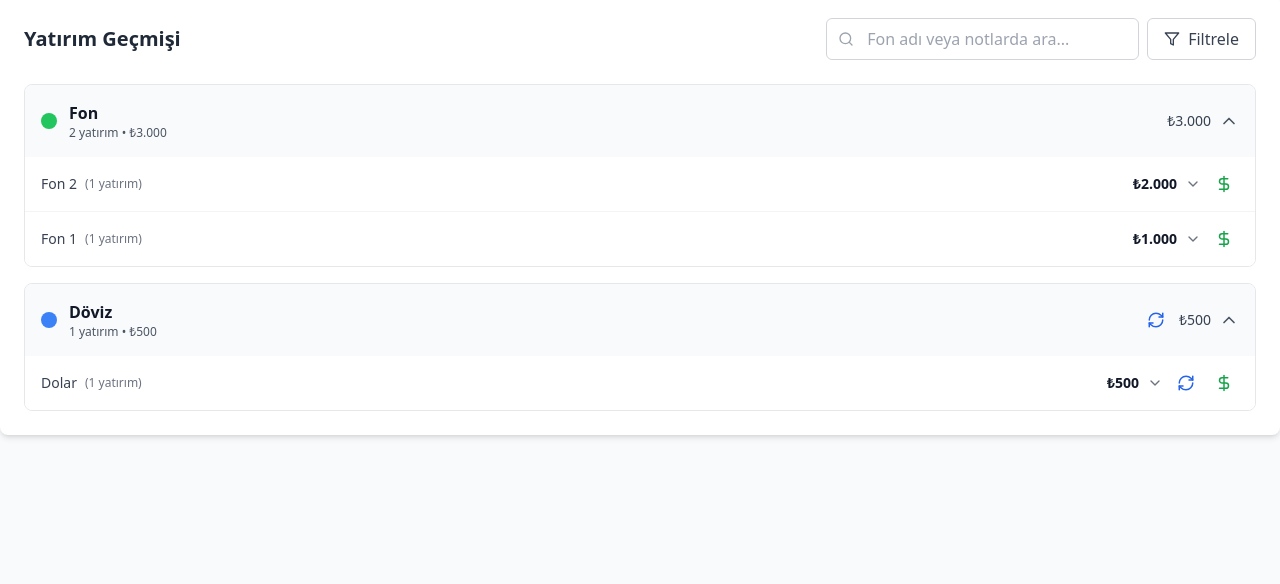
Test: InvestmentList Edge Cases › should handle filter combination (type + currency)
This screenshot has width=1280, height=584.
Step 1. Click the button with aria-label "filtreleri göster" → (1202,39), box [1147,18,1256,60]
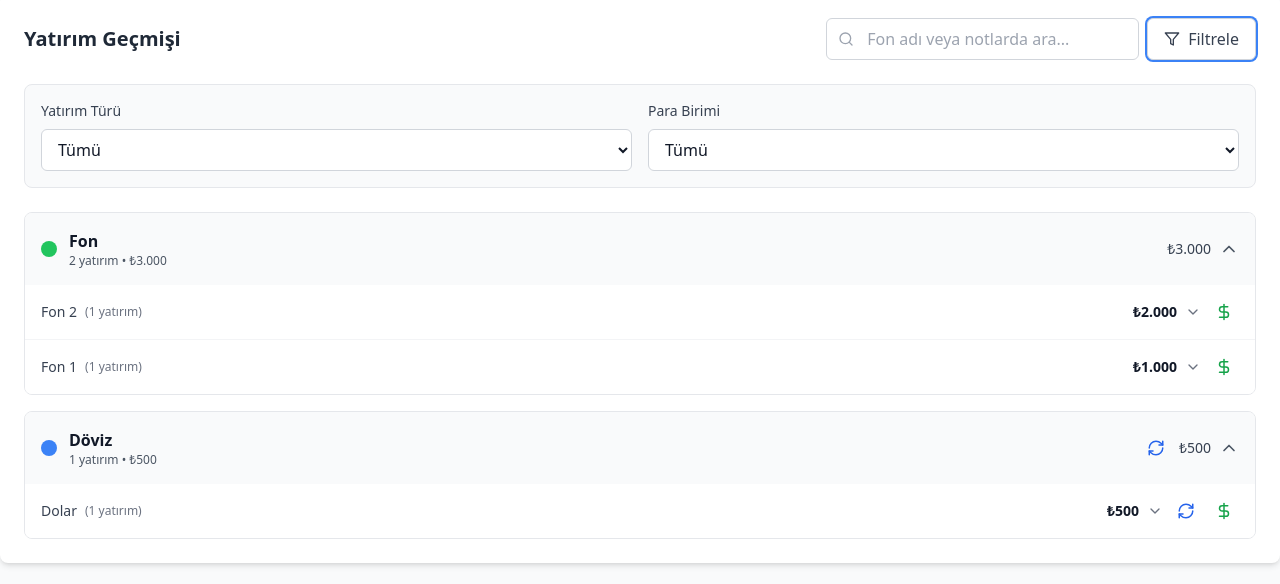
Step 2. Select "Fon" in the dropdown named "yatırım türüne göre filtrele" → (336,150), box [41,129,632,171]
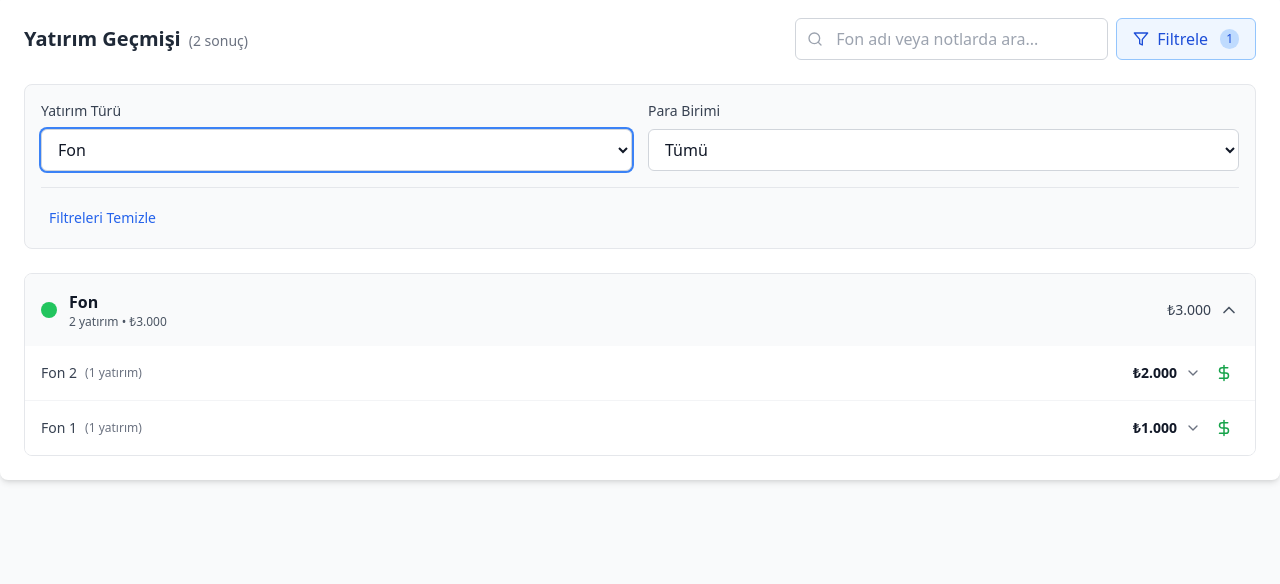
Step 3. Select "USD" in the dropdown named "para birimine göre filtrele" → (944,150), box [648,129,1239,171]
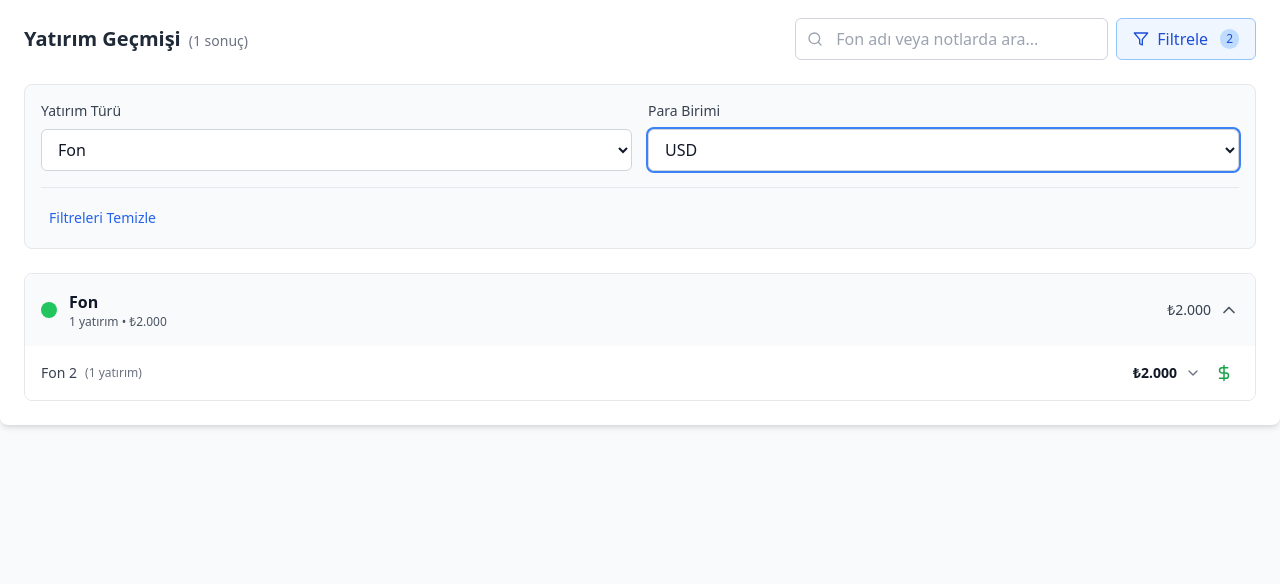
Now the text "(1 sonuç)" is shown, box [189,31,248,50]
